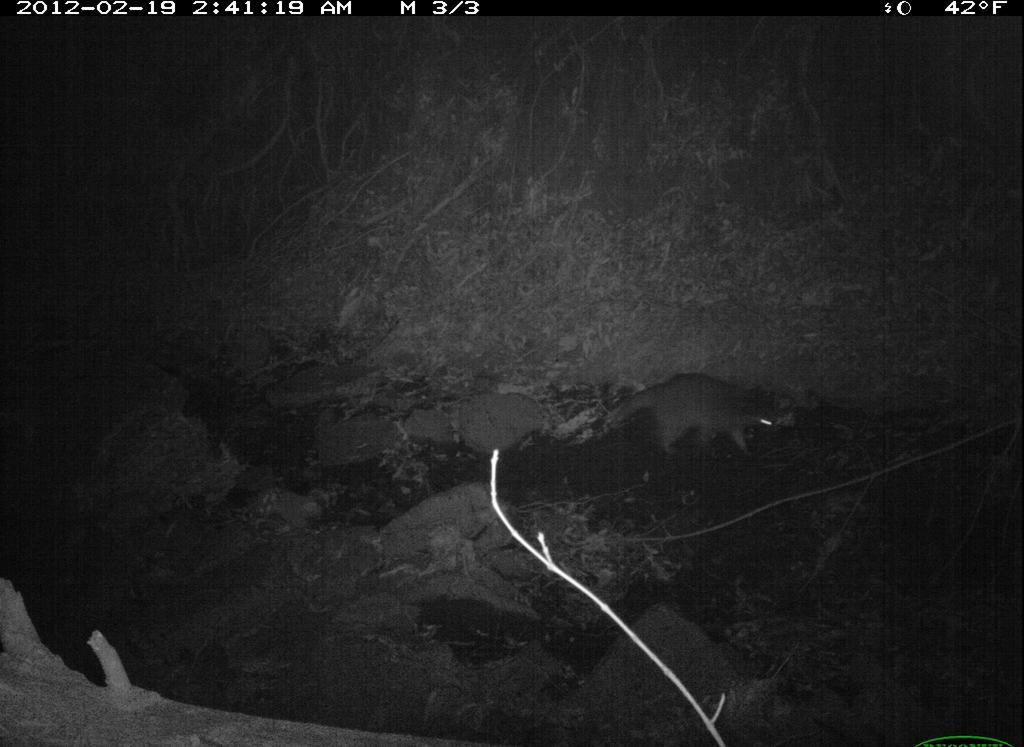raccoon: (582, 369, 811, 478)
